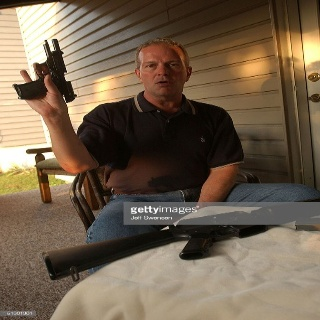pistol: (12, 36, 83, 106)
rifle: (40, 204, 320, 283)
